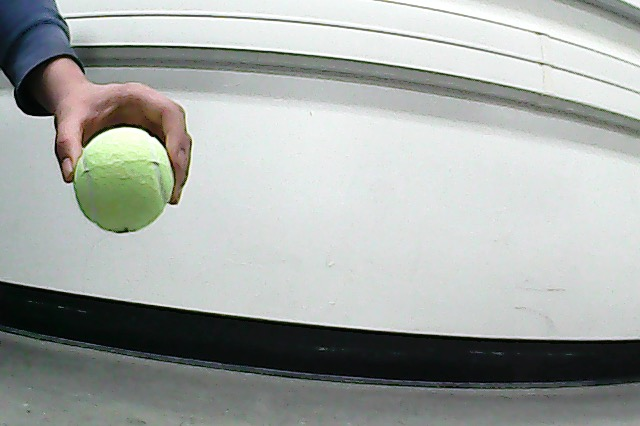ball: (74, 127, 175, 234)
